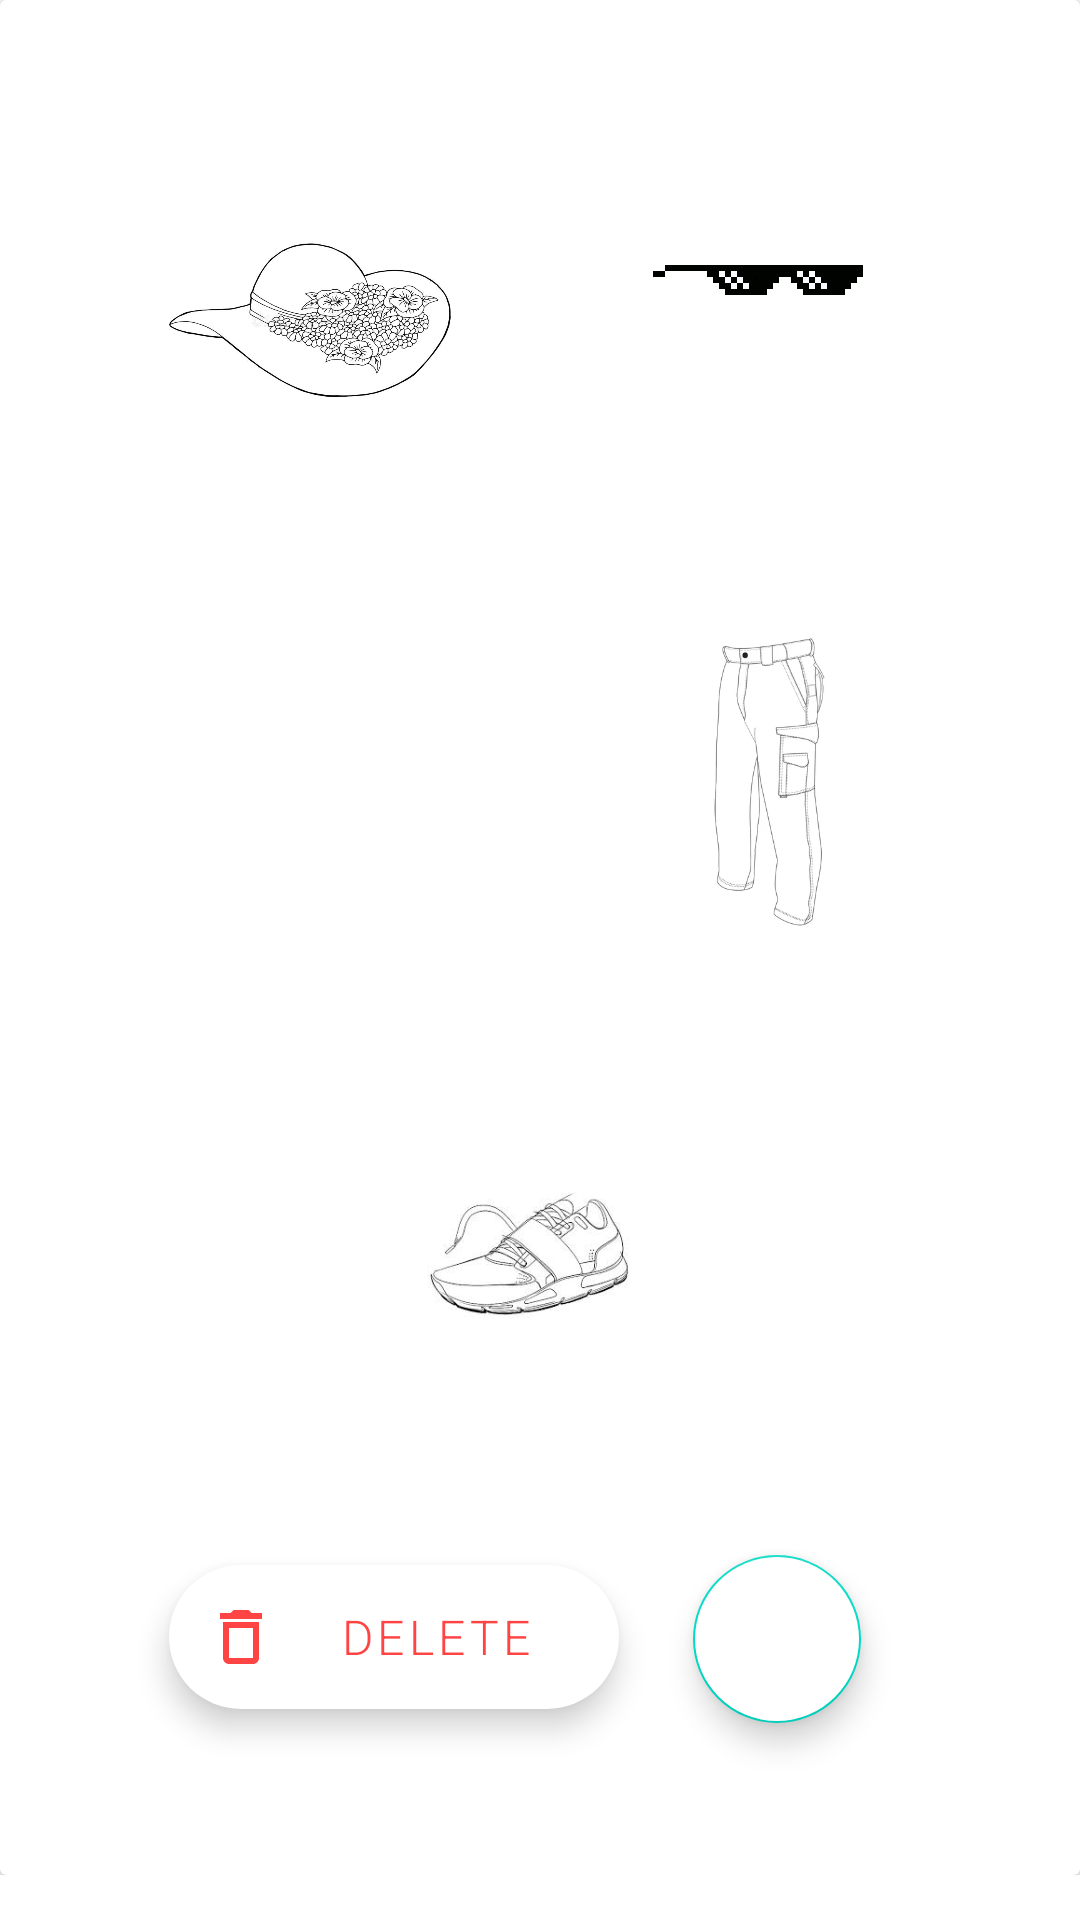

Named icons in this screenshot (1080px x 1920px) and their bounding boxes, (x1, y1, x2, y2):
bottom: (714, 638, 825, 926)
overhead: (169, 243, 451, 397)
shoes: (430, 1193, 628, 1315)
